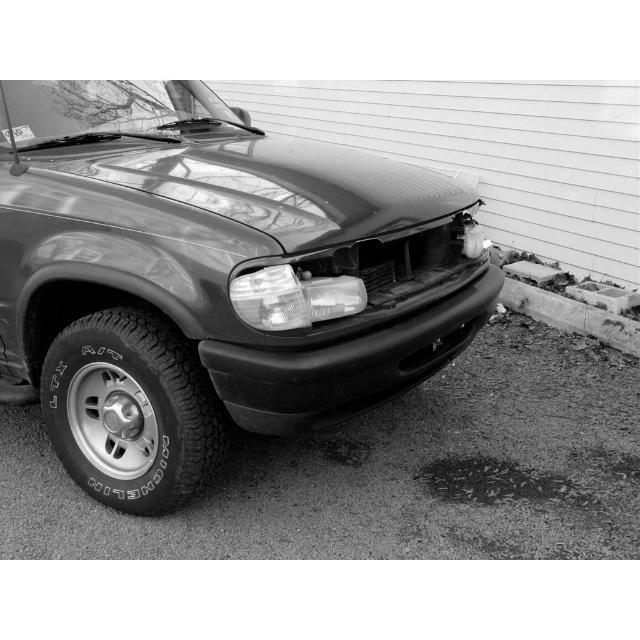Headlight-damage: (229, 257, 382, 345), (451, 198, 506, 271)
front-bumper-dent: (367, 228, 463, 319)
